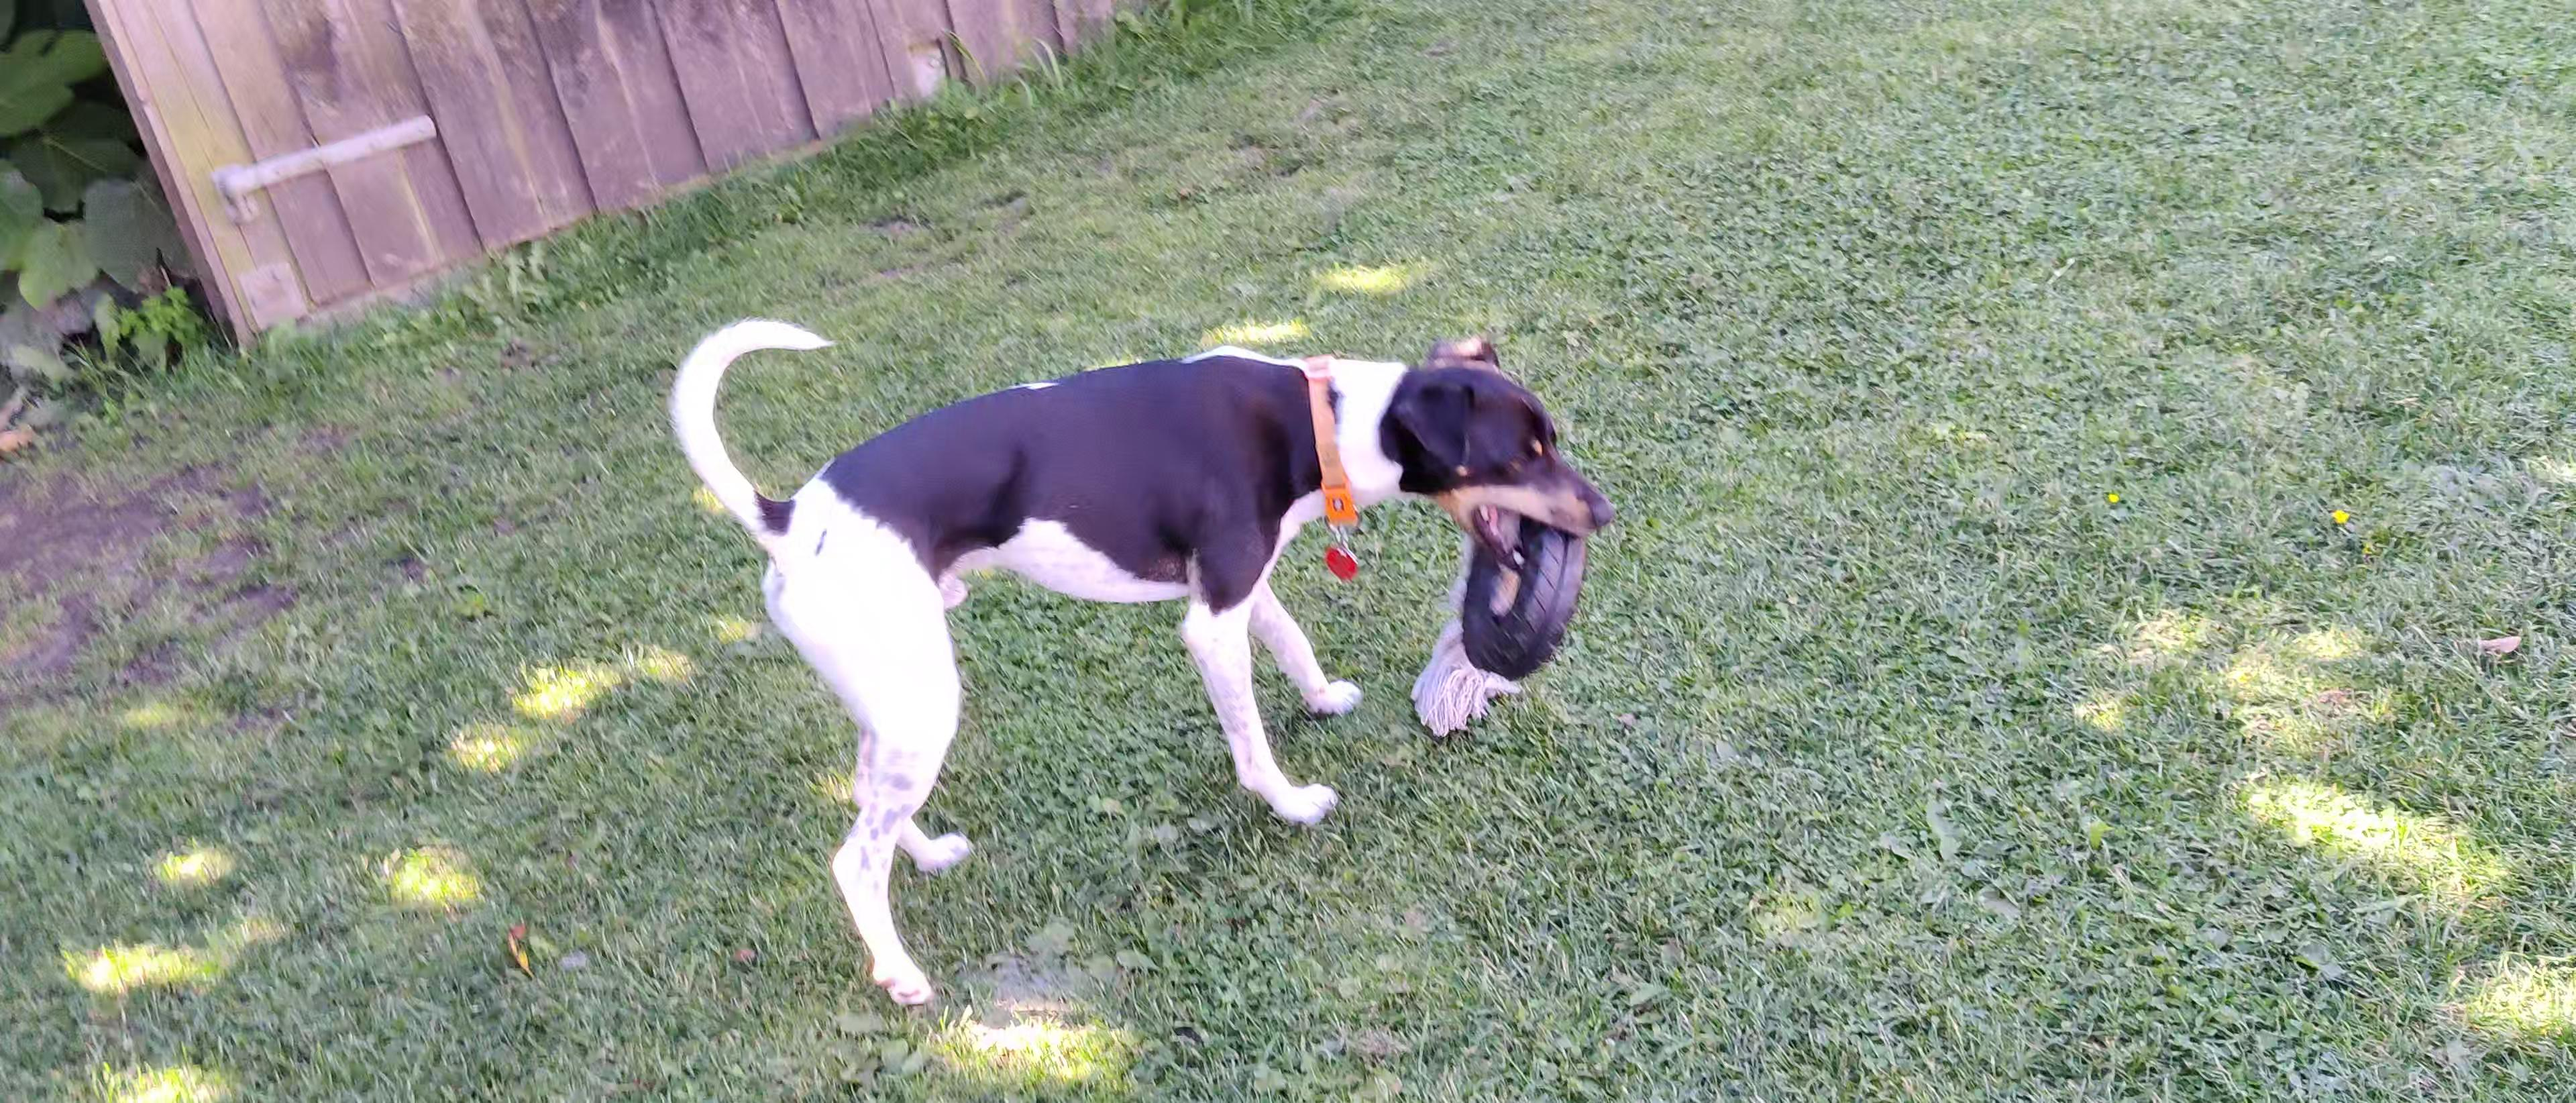Dog: (655, 293, 1621, 1019)
